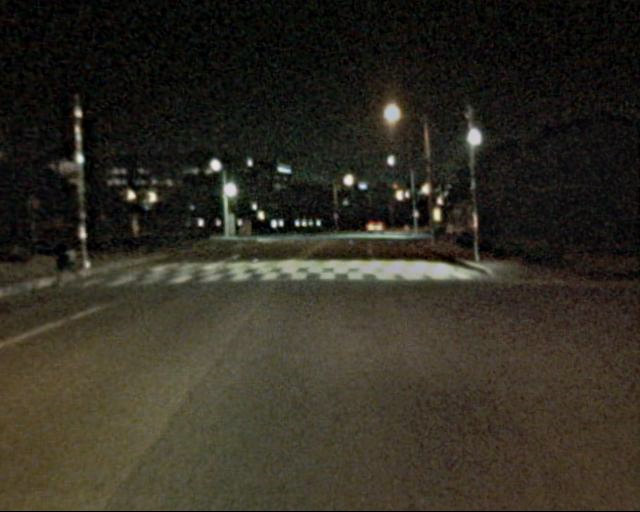person: (52, 229, 86, 291)
